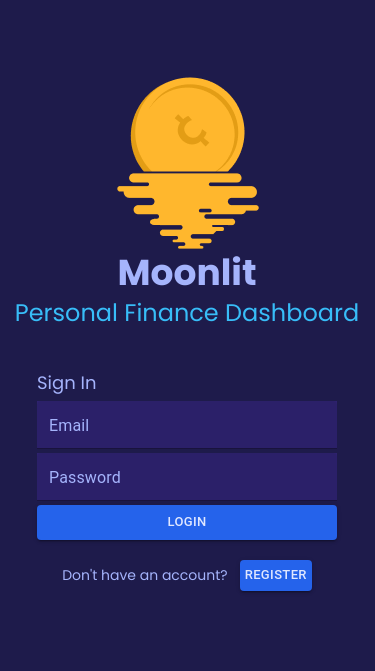
Test: Register Page › requires name, email & password
This screenshot has width=375, height=671.
Click the button with test id "cypress-toregister". click: (276,576)
box: x1=240 y1=560 x2=312 y2=591
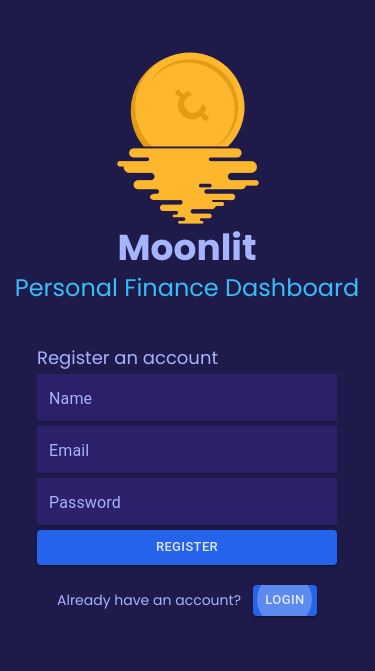
Click the button with test id "cypress-register". click: (187,548)
box: x1=37 y1=530 x2=337 y2=565
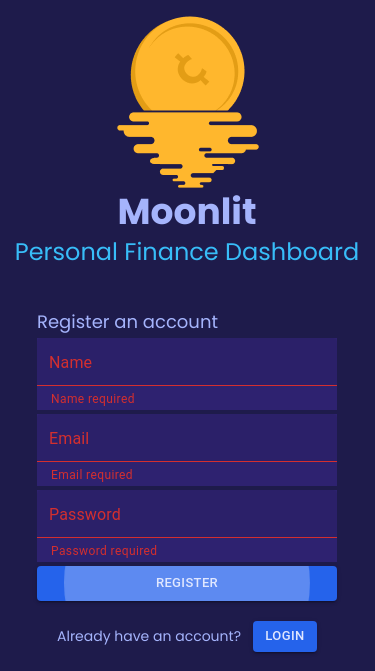
Check: the text "Name required" is shown, box x1=51 y1=392 x2=135 y2=406
Check: the text "Email required" is shown, box x1=51 y1=468 x2=133 y2=482
Check: the text "Password required" is shown, box x1=51 y1=544 x2=158 y2=558
